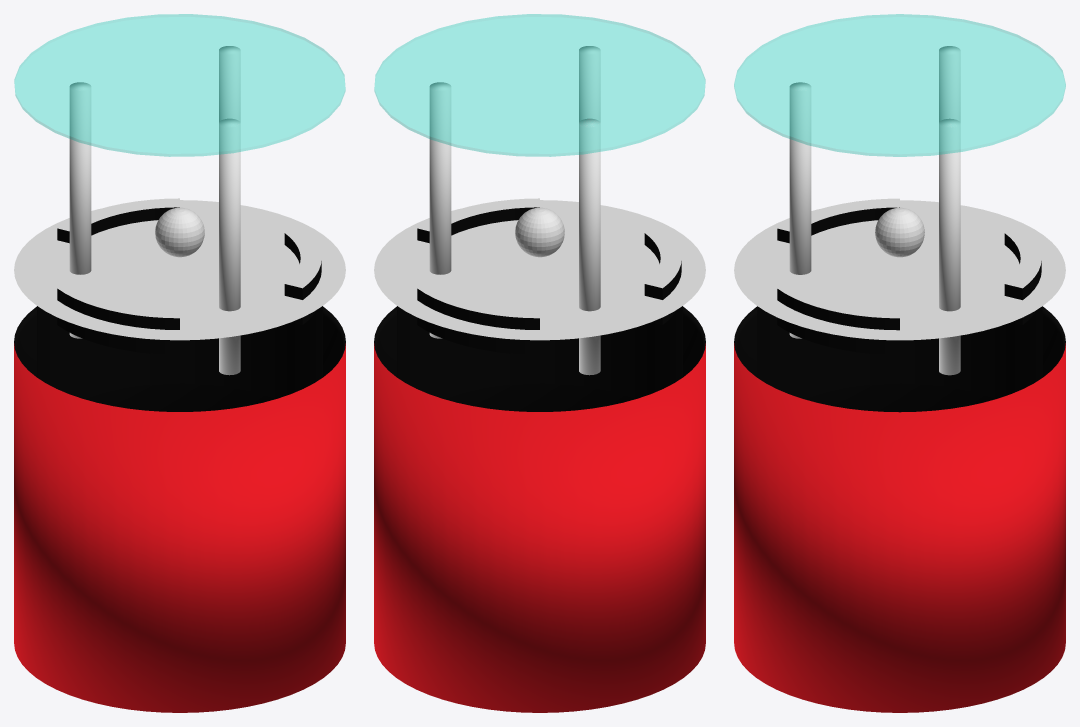
Rendered from JJround.glb.
3 views of the same model, side by side, from view 1: azimuth 30°, elevation 25°; view 2: azimuth 150°, elevation 25°; view 3: azimuth 270°, elevation 25° (orthographic).
Parts seen in each view (by area): view 1: Base, Top_Glass, Table, TableMoveCircle, Opora.003, Opora.002, TableCircle, Сфера, Opora.001; view 2: Base, Top_Glass, Table, TableMoveCircle, Opora.002, Opora.001, TableCircle, Сфера, Opora.003; view 3: Base, Top_Glass, Table, TableMoveCircle, Opora.001, Opora.003, TableCircle, Сфера, Opora.002.
Part boxes in pixels (box(x1,y1,x2,y2)): Base: box(14, 306, 345, 712); Top_Glass: box(14, 14, 345, 156); Table: box(14, 200, 345, 399); TableMoveCircle: box(57, 198, 321, 354); Opora.003: box(219, 118, 240, 375); Opora.002: box(69, 82, 91, 338); TableCircle: box(38, 210, 302, 329); Сфера: box(155, 207, 204, 257); Opora.001: box(219, 46, 240, 121); Base: box(374, 306, 705, 712); Top_Glass: box(374, 14, 705, 156); Table: box(374, 200, 705, 399); TableMoveCircle: box(417, 198, 681, 354); Opora.002: box(579, 118, 600, 375); Opora.001: box(429, 82, 451, 338); TableCircle: box(398, 210, 662, 329); Сфера: box(515, 207, 564, 257); Opora.003: box(579, 46, 600, 121); Base: box(734, 306, 1065, 712); Top_Glass: box(734, 14, 1065, 156); Table: box(734, 200, 1065, 399); TableMoveCircle: box(777, 198, 1041, 354); Opora.001: box(939, 118, 960, 375); Opora.003: box(789, 82, 811, 338); TableCircle: box(758, 210, 1022, 330); Сфера: box(875, 207, 924, 257); Opora.002: box(939, 46, 960, 121).
Size of the model in its own units: 2 by 3.71 by 2.
